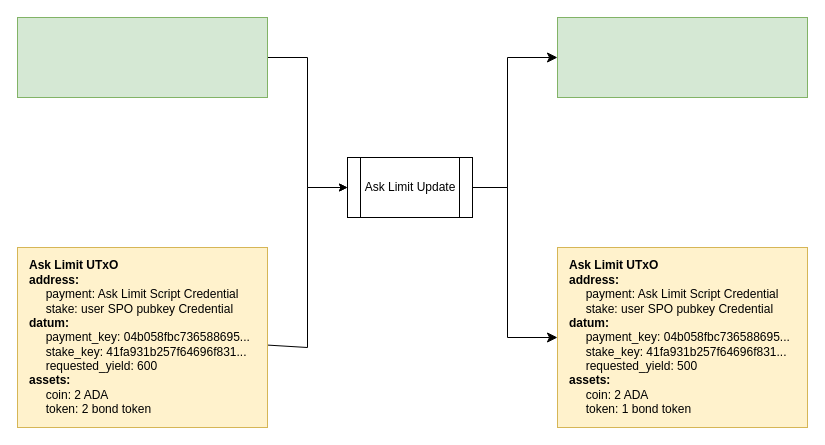
The diagram is 825 pixels wide and 445 high, and some of its shapes have lost their labels. The shapes that lost their labels are listed below. From the top down, each one's box as (x1, y1, x2, y2) in pixels, then its label:
(16, 16, 268, 98): User UTxO assets: coin: 2 ADA
(556, 16, 808, 98): User UTxO assets: coin: 2 ADA token: 1 bond token
